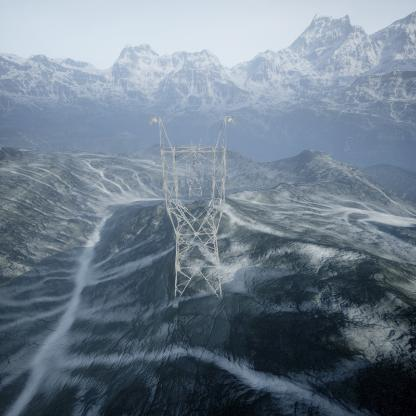tower: (144, 110, 243, 312)
